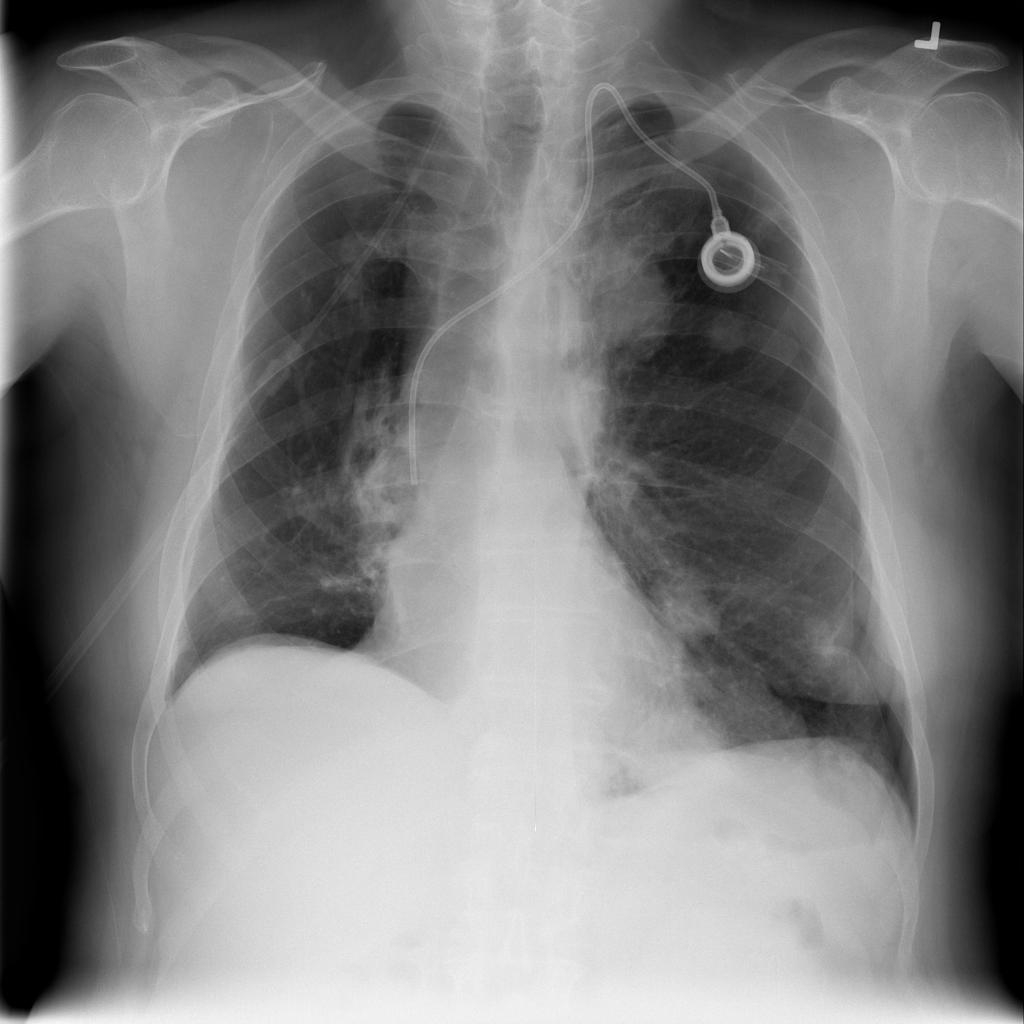nodule: (614, 694, 750, 813), (632, 553, 736, 663), (788, 594, 861, 671), (692, 298, 762, 368)
